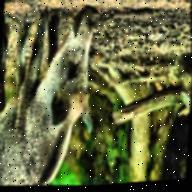boar: (0, 0, 115, 192)
